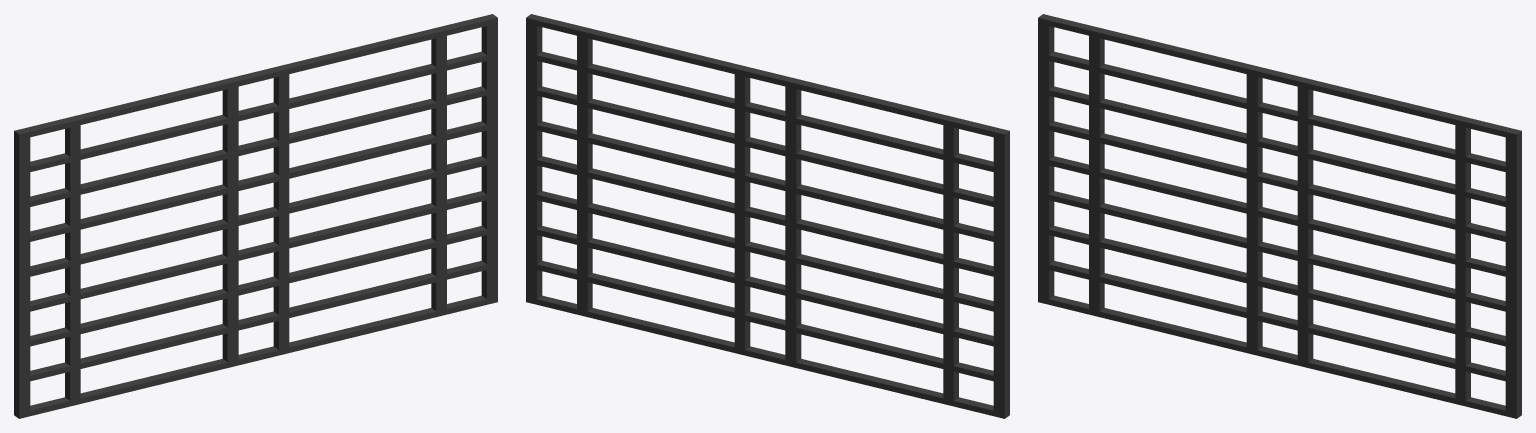
File: fbx_school_gate2.fbx
3 views of the same model, side by side, from view 1: azimuth 30°, elevation 25°; view 2: azimuth 150°, elevation 25°; view 3: azimuth 330°, elevation 25° (orthographic).
Visible parts, largest first — view 1: fbx_school_gate2; view 2: fbx_school_gate2; view 3: fbx_school_gate2.
Boxes of the visible parts, box(x1,y1,x2,y2) form: fbx_school_gate2: box(14, 14, 497, 418); fbx_school_gate2: box(526, 14, 1009, 418); fbx_school_gate2: box(1038, 14, 1521, 418).
Bounding box in the file's own units: 3.55 × 2.01 × 0.0659.
1 material, 1 textured.
